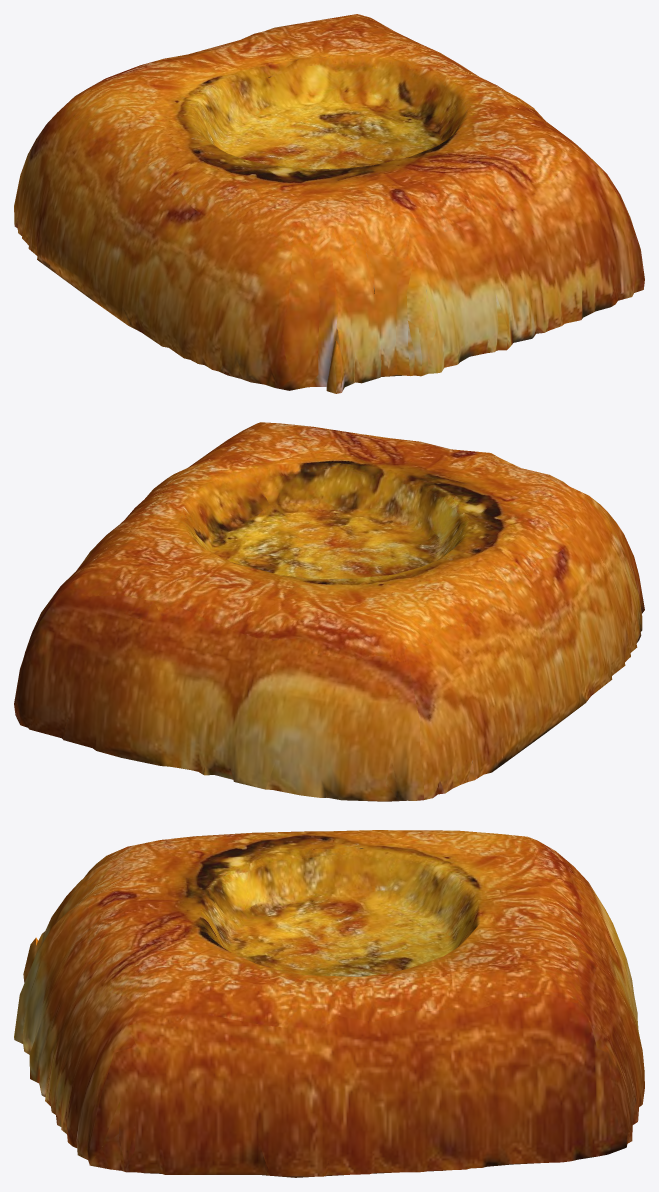
File: prop_feta_spinach_danish.glb
3 renders of one model, top to bottom at view 1: azimuth 30°, elevation 25°; view 2: azimuth 150°, elevation 25°; view 3: azimuth 270°, elevation 25°, orthographic. The views are drawn at different scales.
Parts seen in each view (by area): view 1: Pastry; view 2: Pastry; view 3: Pastry.
Part boxes in pixels (box(x1,y1,x2,y2)): Pastry: box(14, 14, 644, 393); Pastry: box(14, 422, 644, 801); Pastry: box(14, 830, 644, 1177).
Size of the model in its own units: 0.114 by 0.037 by 0.1292.
1 material, 1 textured.
